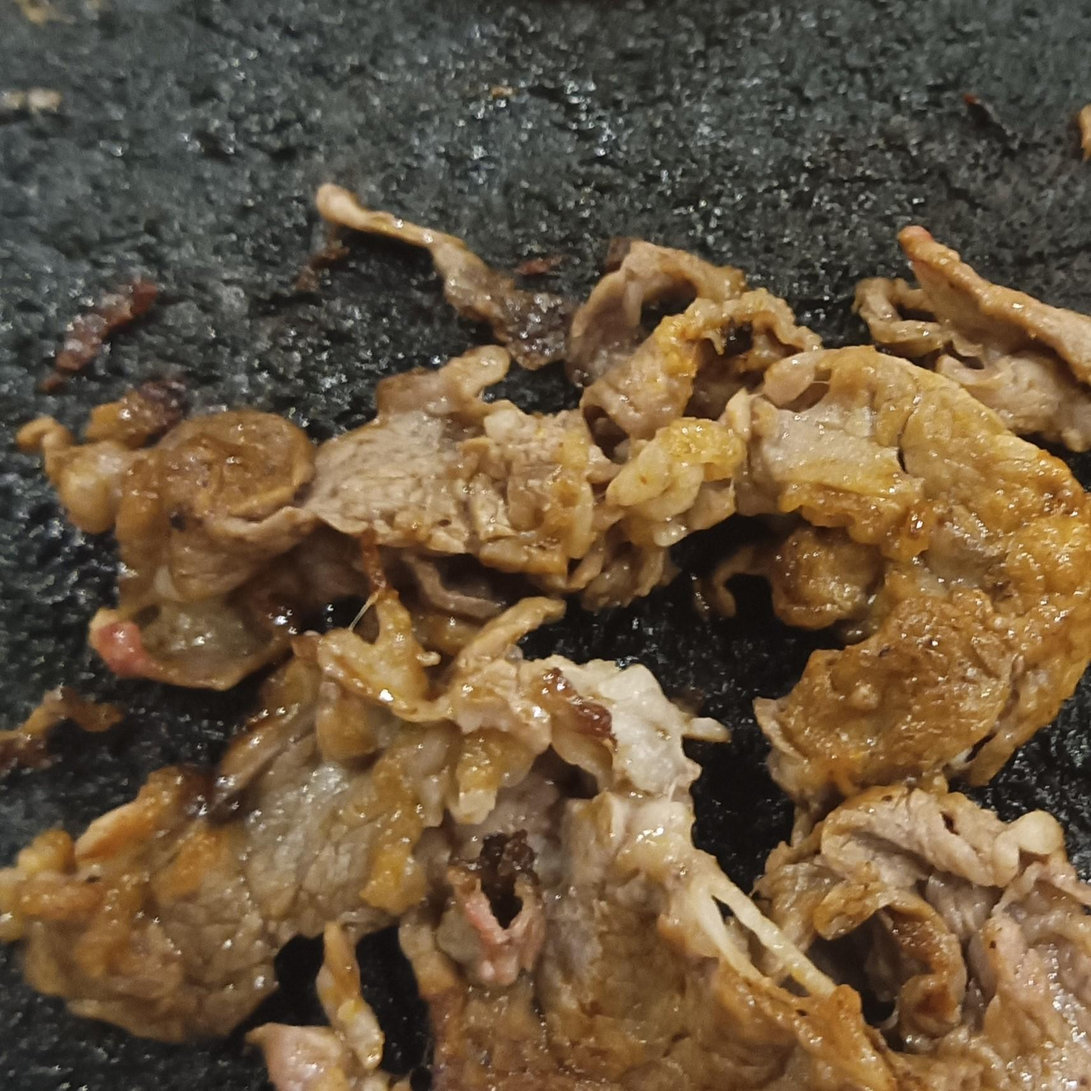Overcooked: (0, 184, 1090, 1090)
